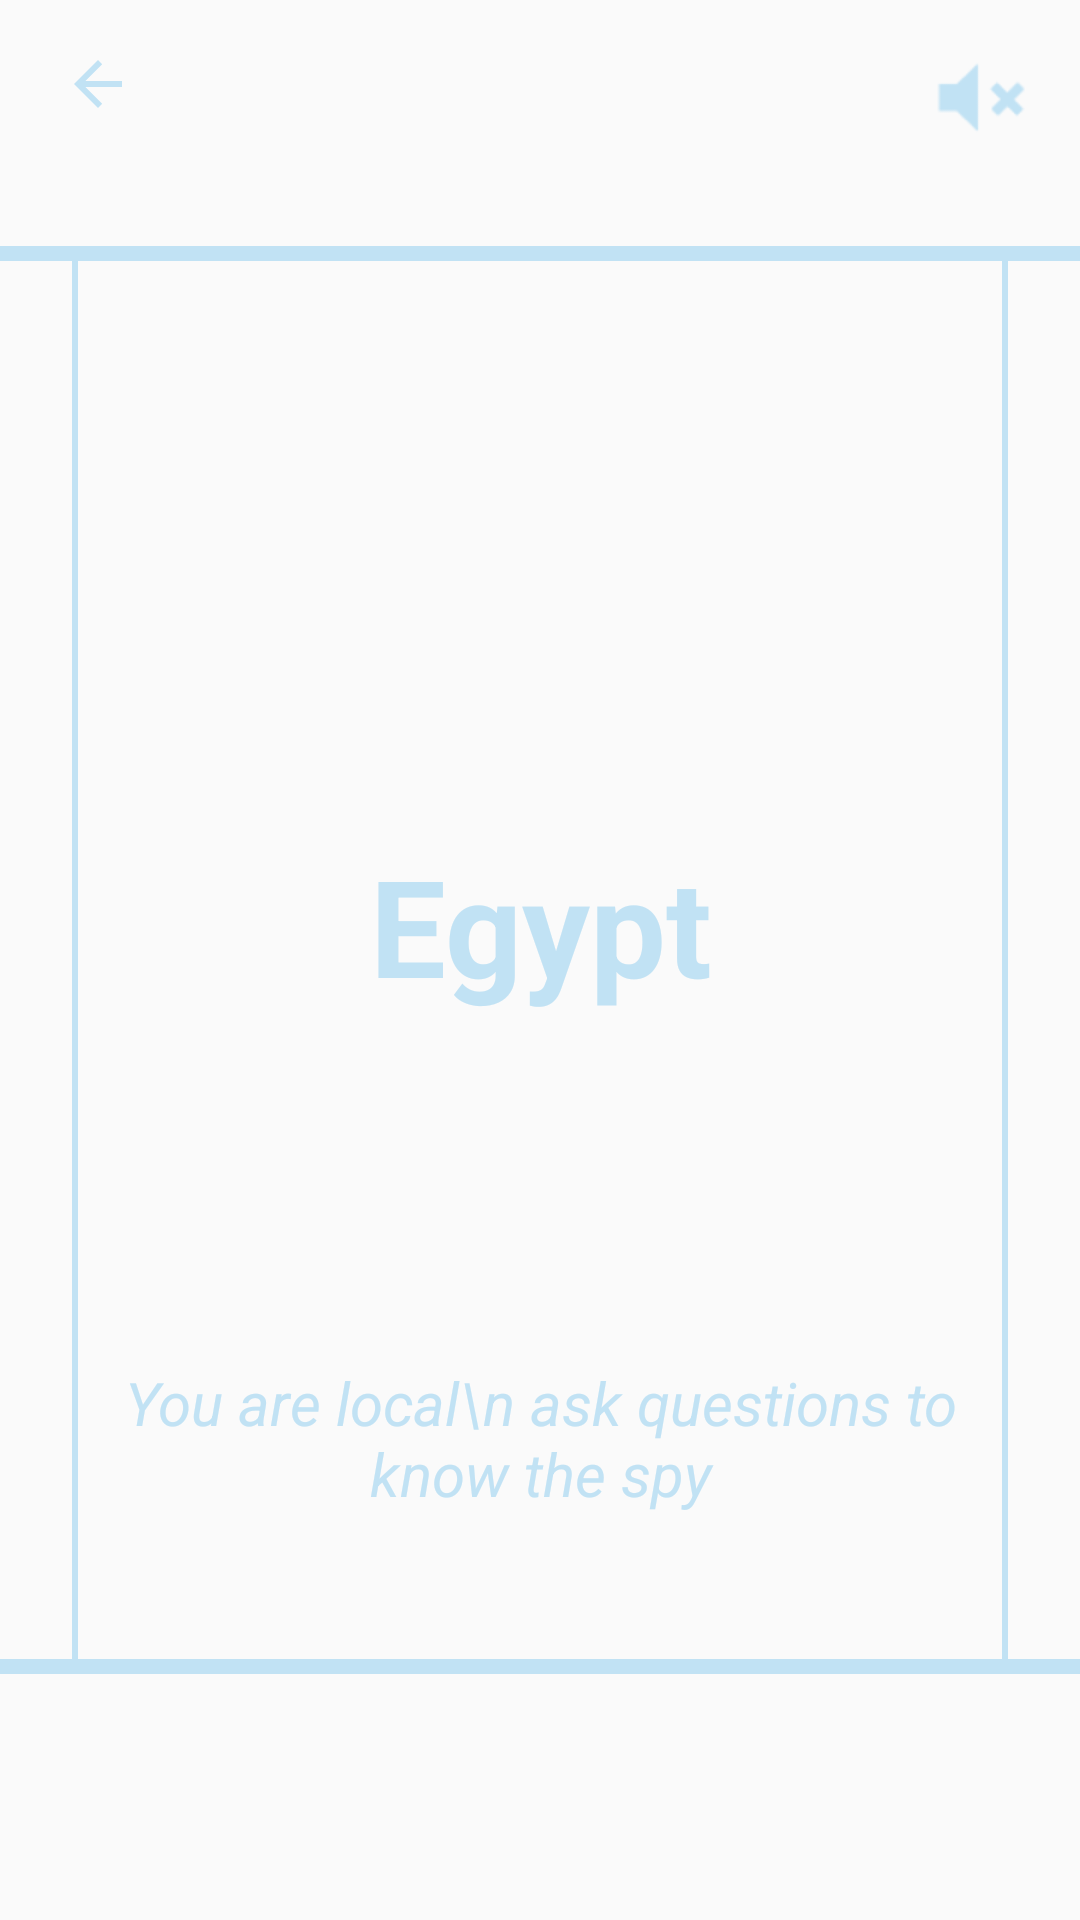

Locate icon controls on the screen. Image size 1080 × 1920, boxes as (x1, y1, x2, y2).
lock silent mode: (939, 65, 1024, 130)
